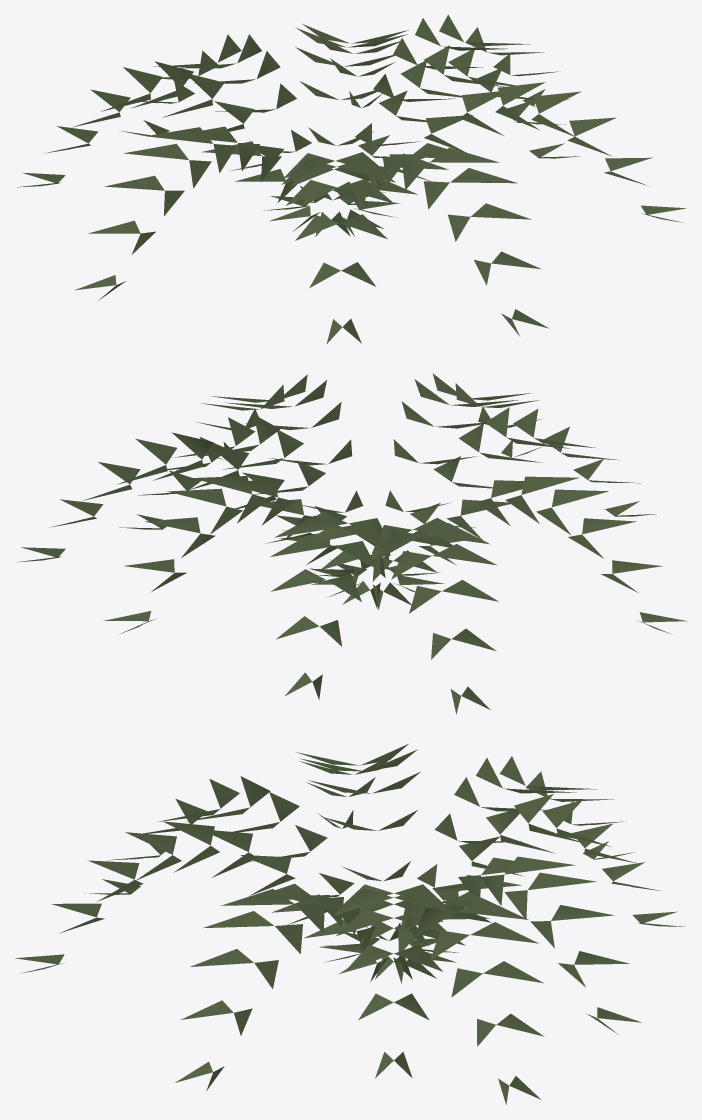
Rendered from forest-fern-v3.glb.
3 views of the same model, one above another, from view 1: azimuth 30°, elevation 25°; view 2: azimuth 150°, elevation 25°; view 3: azimuth 270°, elevation 25° (orthographic). The views are drawn at different scales.
Parts seen in each view (by area): view 1: Feathered fern volume; view 2: Feathered fern volume; view 3: Feathered fern volume.
Part boxes in pixels (<box>): Feathered fern volume: <box>17,14,686,343</box>; Feathered fern volume: <box>16,373,687,714</box>; Feathered fern volume: <box>15,744,684,1104</box>.
Bounding box in the file's own units: 2.52 × 0.4731 × 2.42.
